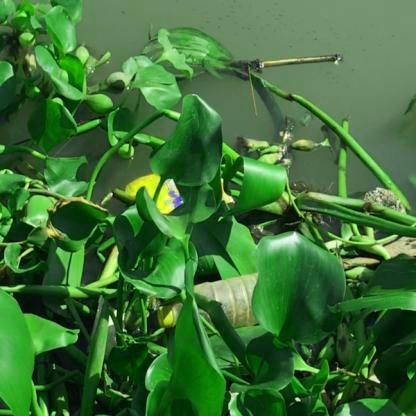Plastic: (153, 244, 325, 349)
Trash: (119, 159, 183, 225)
